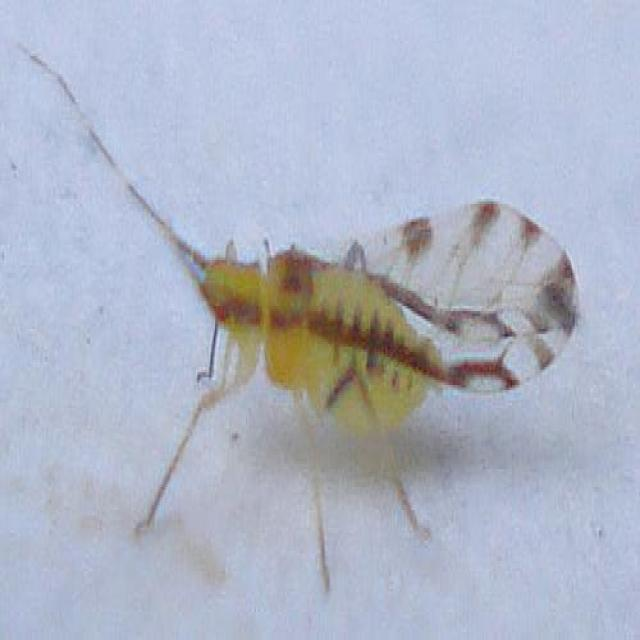Aphids: (36, 45, 584, 588)
